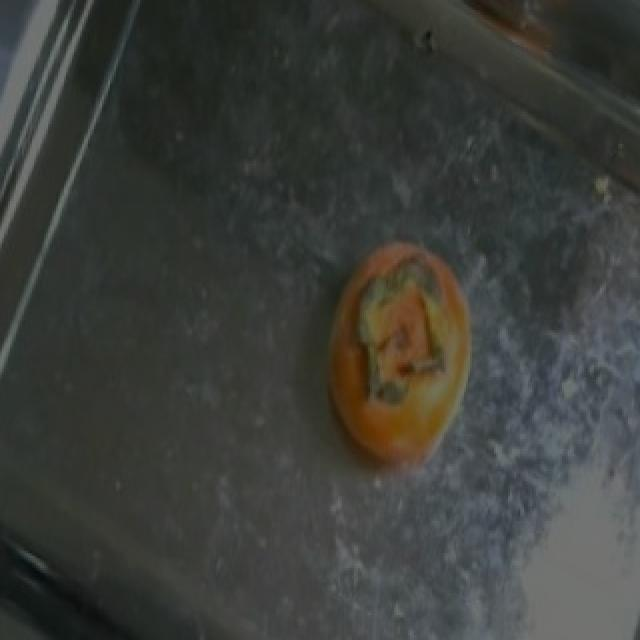Fruit: (302, 223, 492, 496)
